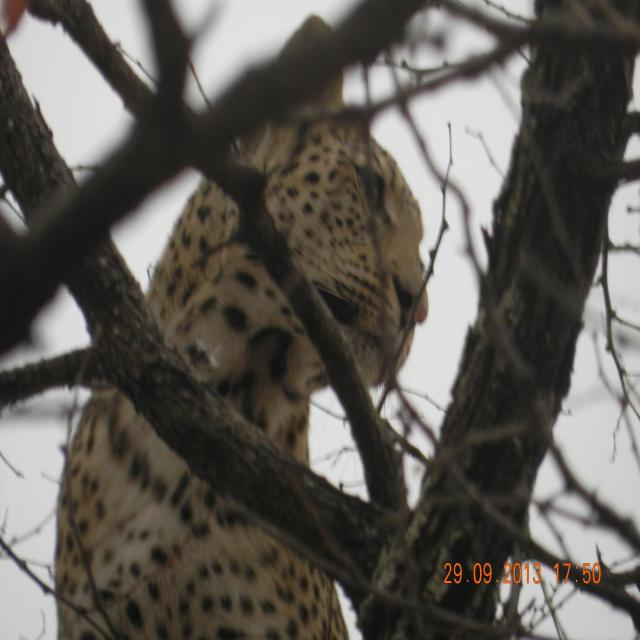Leopard: (47, 87, 524, 640)
